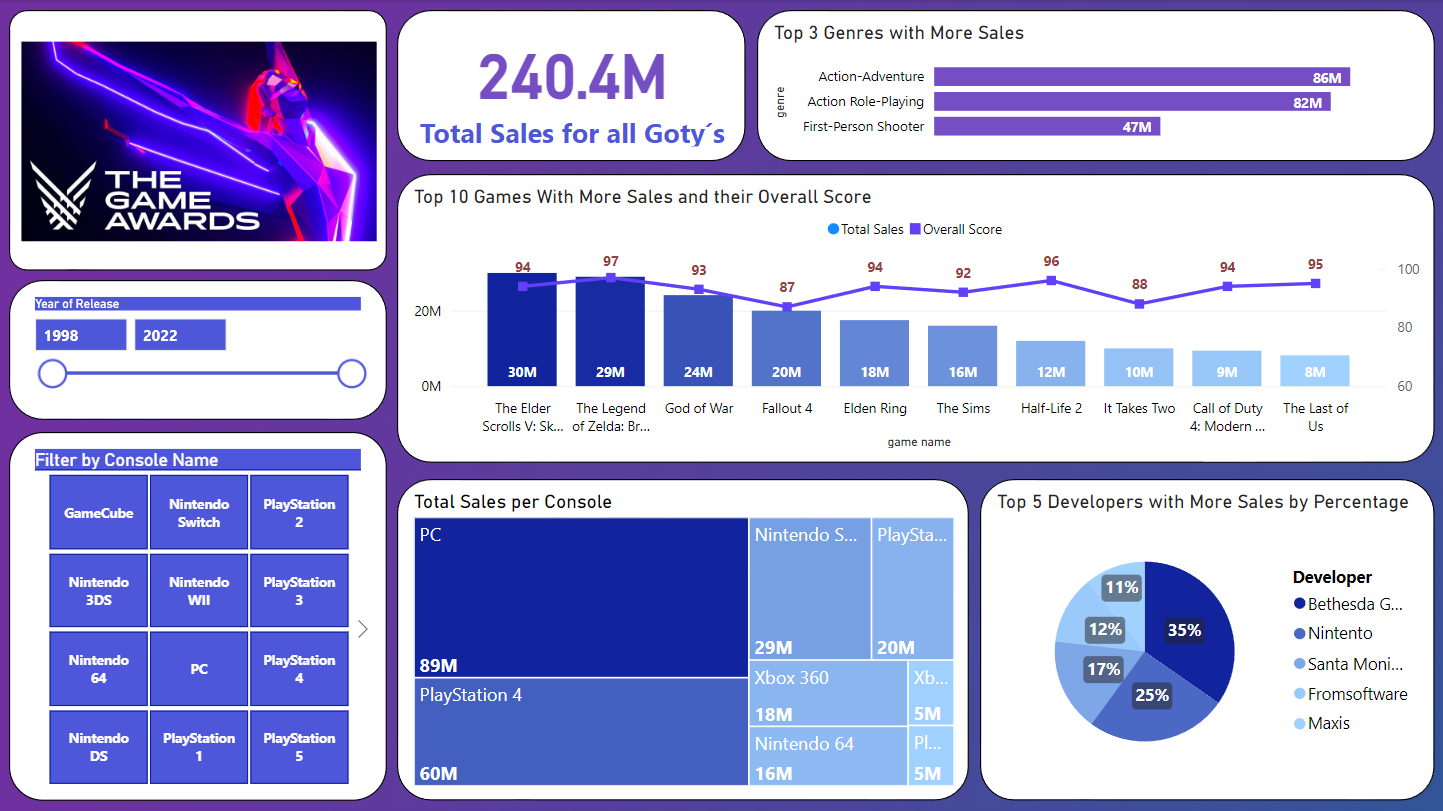

The dashboard page shown, as its layout file describes it:
{"tool":"powerbi","page":{"name":"Página 1","canvas":[1280,720],"ordinal":0},"visuals":[{"type":"image","box":[0,0,352.1,240.3],"z":0},{"type":"slicer","fields":{"Values":["game.year_of_release"]},"box":[0,240.3,352.1,158.1],"z":1000},{"type":"slicer","fields":{"Values":["consoles.console"]},"box":[0,398,352.5,322.2],"z":2000},{"type":"lineStackedColumnComboChart","title":"Top 10  Games With More Sales and their Overall Score","fields":{"Category":["game.game name"],"Y":["Sum(game.sales)"],"Y2":["Avg(game.score)"]},"box":[352.5,150.4,927.5,278],"z":3000},{"type":"treemap","title":"Total Sales per Console","fields":{"Values":["Sum(game.sales)"],"Group":["consoles.console"]},"box":[352.5,428.4,463.7,291.9],"z":4000},{"type":"card","title":"Total Sales for all GOTY´S","fields":{"Values":["Sum(game.sales)"]},"box":[352.5,0,327.3,150.4],"z":5000},{"type":"pieChart","title":"Top 5 Developers with More Sales by Percentage","fields":{"Category":["developer.developer"],"Y":["Sum(game.sales)"]},"box":[816.3,428.4,463.7,291.9],"z":6000},{"type":"barChart","title":"Top 3 Genres with More Sales","fields":{"Category":["genre.genre"],"Y":["Sum(game.sales)"]},"box":[679.8,0,600.2,150.4],"z":7000}]}

Visuals, with their boxes in screenshot pixels (x1, y1, x2, y2), scaled from the page's 1280x720 canvas onto the 1443x811 screenshot:
image: x1=0 y1=0 x2=397 y2=271
slicer - game.year_of_release: x1=0 y1=271 x2=397 y2=449
slicer - consoles.console: x1=0 y1=448 x2=397 y2=810
"Top 10  Games With More Sales and their Overall Score" lineStackedColumnComboChart: x1=397 y1=169 x2=1442 y2=483
"Total Sales per Console" treemap: x1=397 y1=483 x2=920 y2=810
"Total Sales for all GOTY´S" card: x1=397 y1=0 x2=766 y2=169
"Top 5 Developers with More Sales by Percentage" pieChart: x1=920 y1=483 x2=1442 y2=810
"Top 3 Genres with More Sales" barChart: x1=766 y1=0 x2=1442 y2=169
